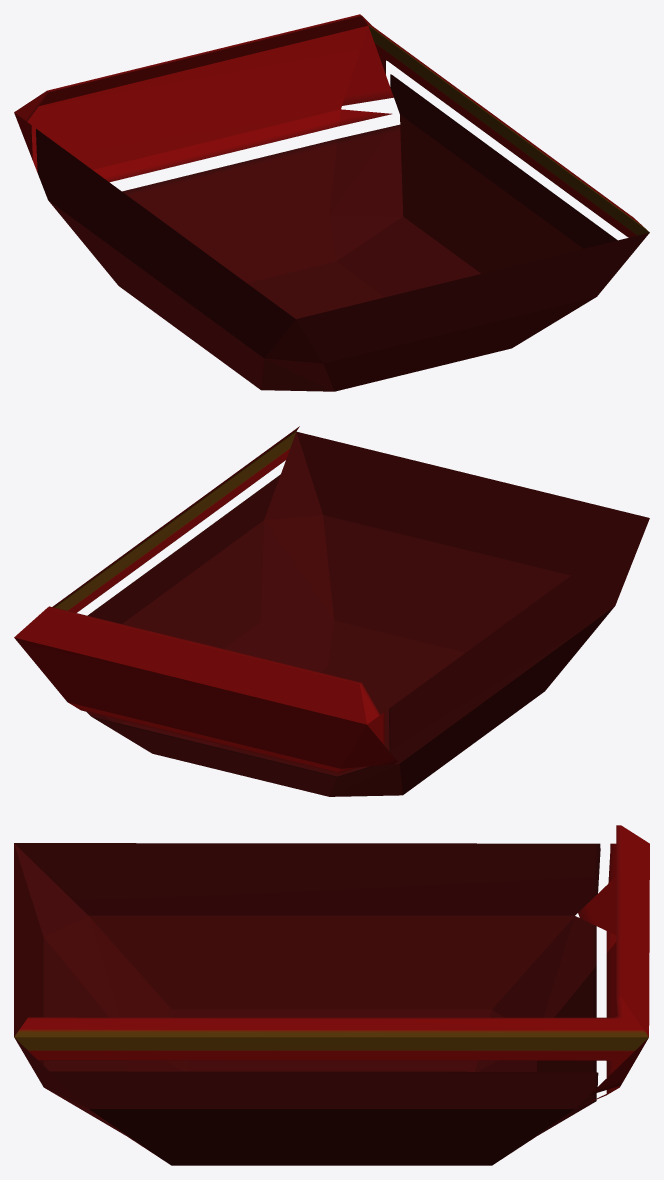
Rendered from body0_army2.obj.
The picture shows the model from 3 angles, top to bottom: view 1: azimuth 30°, elevation 25°; view 2: azimuth 150°, elevation 25°; view 3: azimuth 270°, elevation 25°; orthographic projection. The views are drawn at different scales.
Visible parts, largest first — view 1: Body0; view 2: Body0; view 3: Body0.
Part boxes in pixels (<box>): Body0: <box>14,14,649,391</box>; Body0: <box>14,426,649,796</box>; Body0: <box>14,825,649,1165</box>.
Size of the model in its own units: 1.85 by 0.8856 by 2.55.
1 material, 1 textured.
